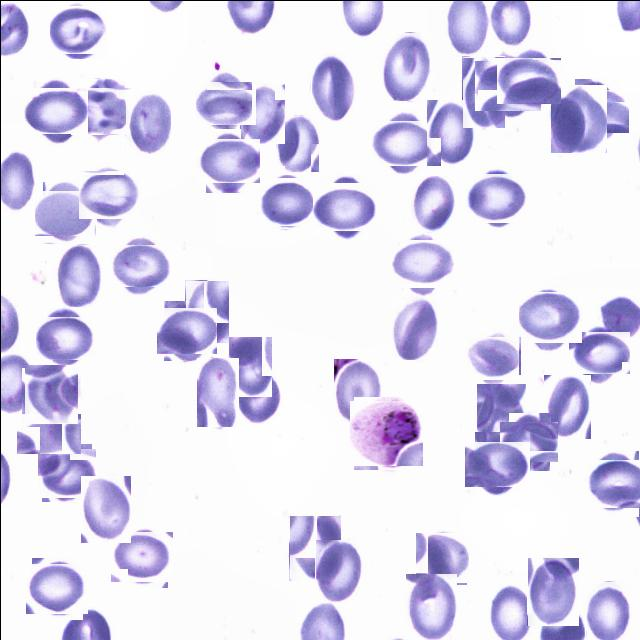difficult: (351, 398, 421, 467)
red blood cell: (550, 84, 606, 152), (476, 383, 525, 458), (526, 556, 578, 625), (404, 572, 456, 639), (288, 514, 340, 580), (478, 56, 537, 114), (520, 288, 578, 346), (80, 475, 130, 542), (425, 98, 475, 165), (381, 31, 429, 100), (315, 178, 371, 235), (28, 560, 85, 616), (22, 366, 79, 422), (333, 358, 380, 425), (74, 82, 130, 138), (375, 114, 431, 170), (114, 528, 170, 584), (468, 170, 524, 226), (585, 454, 640, 511), (461, 56, 504, 128), (310, 51, 354, 121), (27, 82, 82, 138), (80, 167, 136, 222), (394, 236, 450, 291), (469, 436, 525, 491), (501, 52, 556, 108), (389, 296, 437, 360), (314, 538, 362, 602), (543, 374, 590, 438), (200, 133, 255, 187), (196, 358, 238, 428), (39, 445, 93, 499), (38, 186, 92, 240), (569, 83, 623, 137), (51, 2, 104, 56), (160, 303, 213, 357), (124, 92, 170, 154), (184, 279, 228, 342), (584, 580, 630, 640), (56, 244, 100, 306), (572, 326, 624, 378), (415, 531, 467, 583), (22, 408, 74, 460), (199, 76, 251, 128), (239, 83, 284, 143), (227, 335, 271, 396), (38, 312, 90, 363), (408, 174, 454, 231), (234, 366, 280, 423), (114, 239, 165, 290), (260, 176, 310, 227), (467, 332, 517, 382), (504, 416, 554, 466), (275, 114, 318, 171)
